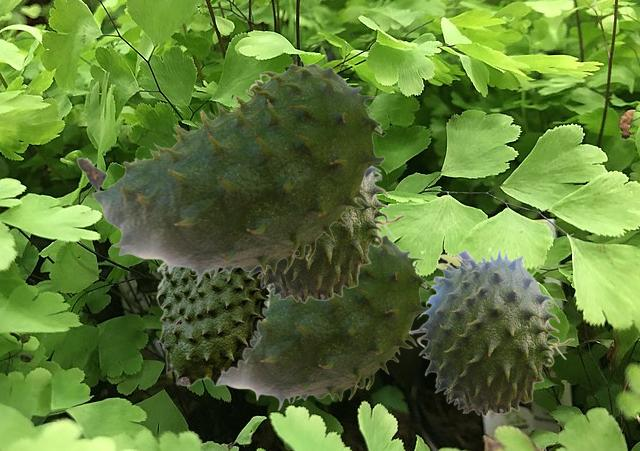guyabano: (76, 63, 385, 286), (217, 234, 429, 410), (408, 247, 574, 416), (246, 166, 405, 303), (155, 262, 271, 386)
